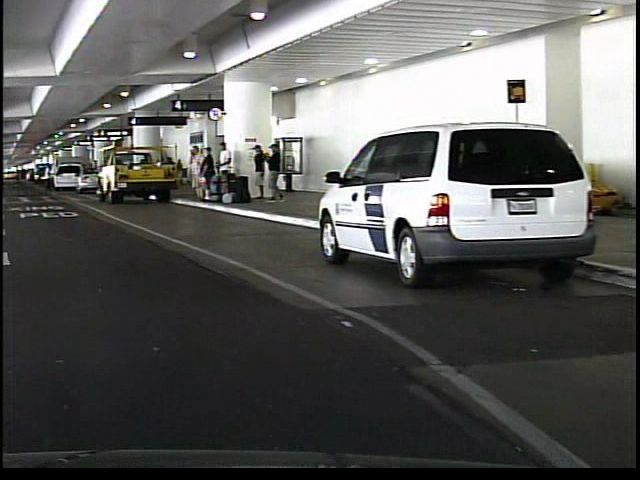person: (184, 141, 202, 202), (264, 142, 281, 206), (40, 162, 52, 193)
